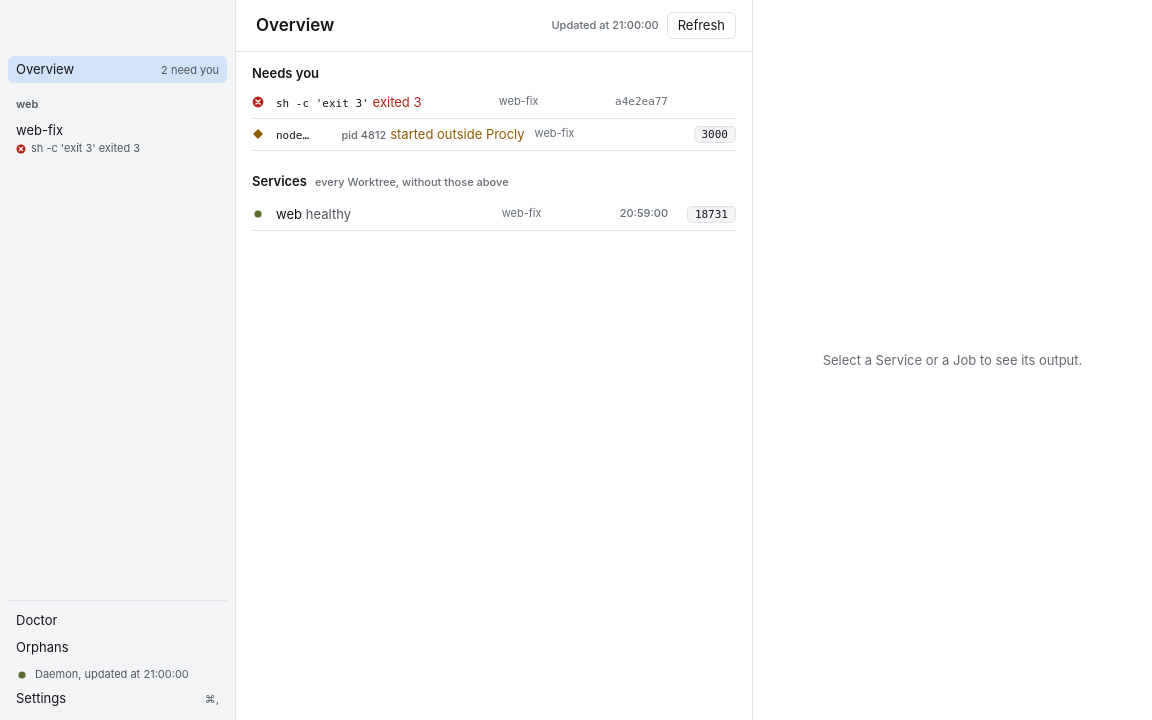
the context menu of a row › offers Mark as Seen on a failure that is not Seen, and selects the row
Click the button "web-fix sh -c 'exit 3' exited 3" at (118, 139), box 8,117 -> 227,161
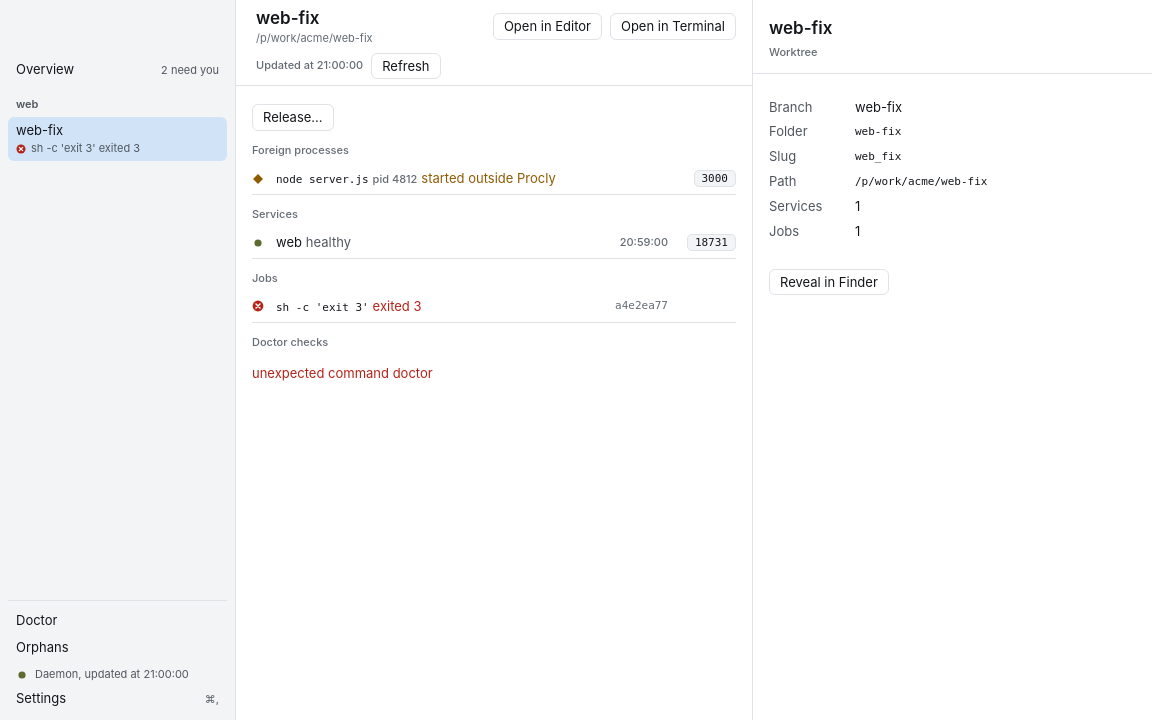
Check: the heading "Services" is shown, box 252,207 -> 298,221
Right-click the button "sh -c 'exit 3' exited 3 a4e2ea77" at (322, 307), box 252,297 -> 668,316
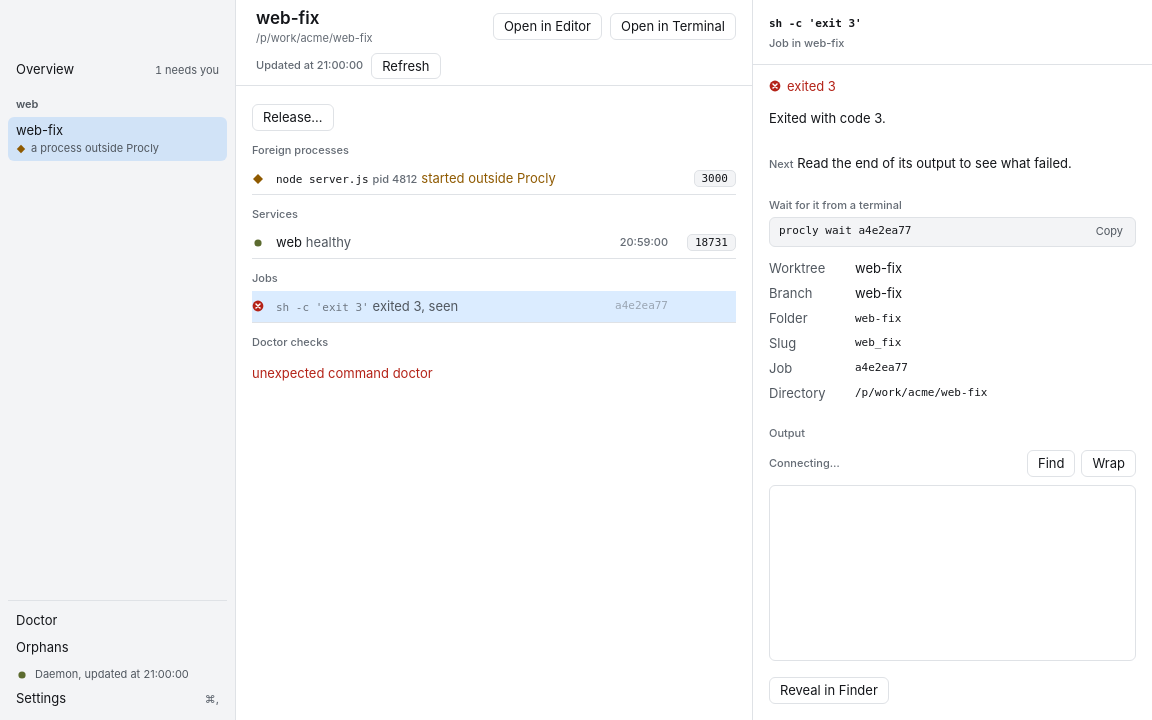
Check: the heading "sh -c 'exit 3'" is shown, box 769,17 -> 862,30
